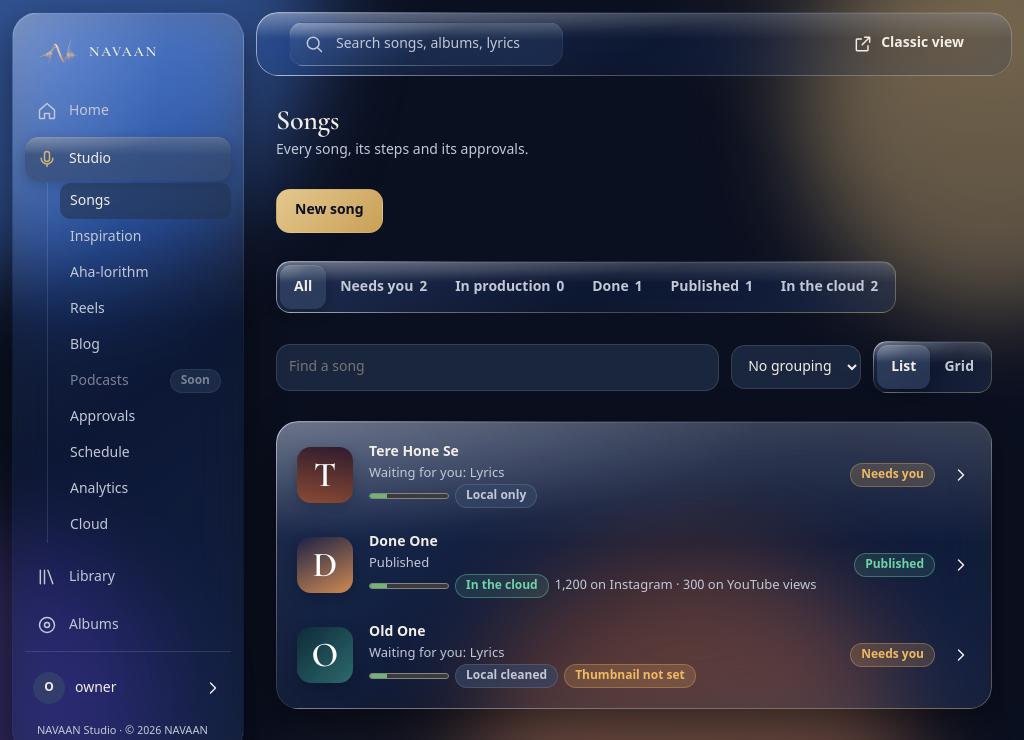
Scenario: Studio > Songs › finds a song, groups by album, shows where its files are and its views, and filters to published or in the cloud
expect the link "Done One" shows "In the cloud": met, box x1=285 y1=520 x2=983 y2=610
expect the link "Done One" shows "1,200 on Instagram · 300 on YouTube views": met, box x1=285 y1=520 x2=983 y2=610
Step 1. Type "done" into the search field labelled "Find a song" → (498, 367), box x1=276 y1=344 x2=719 y2=391
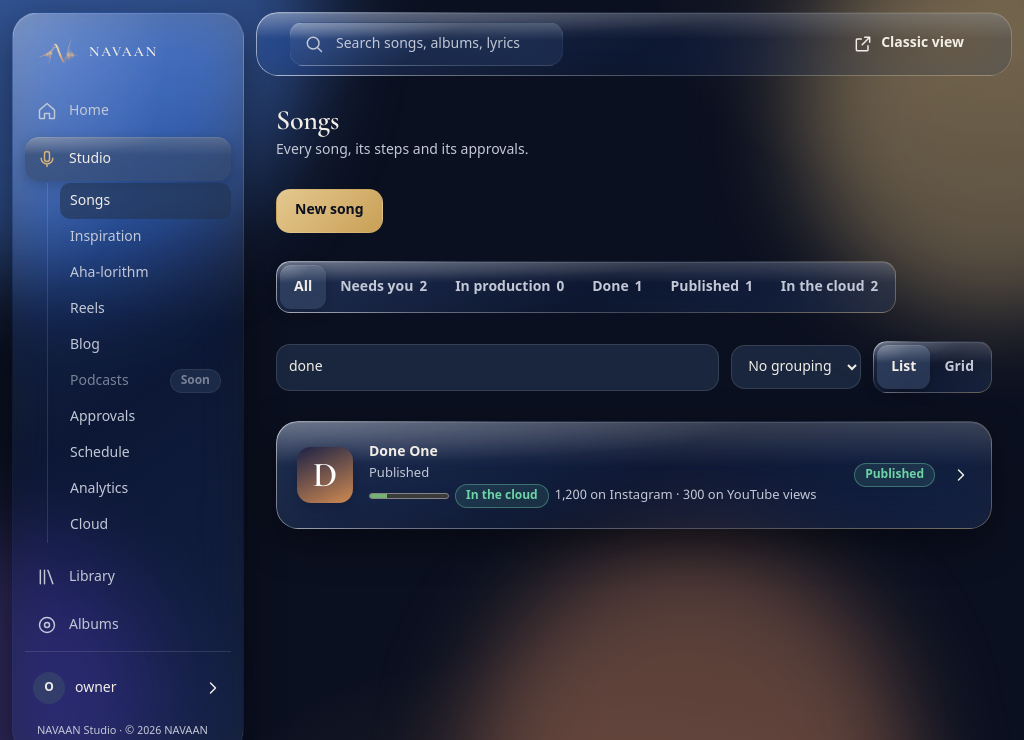
expect the link "Tere Hone Se" is gone: met
Step 2. Clear the search field named "Find a song" → (498, 367), box x1=276 y1=344 x2=719 y2=391
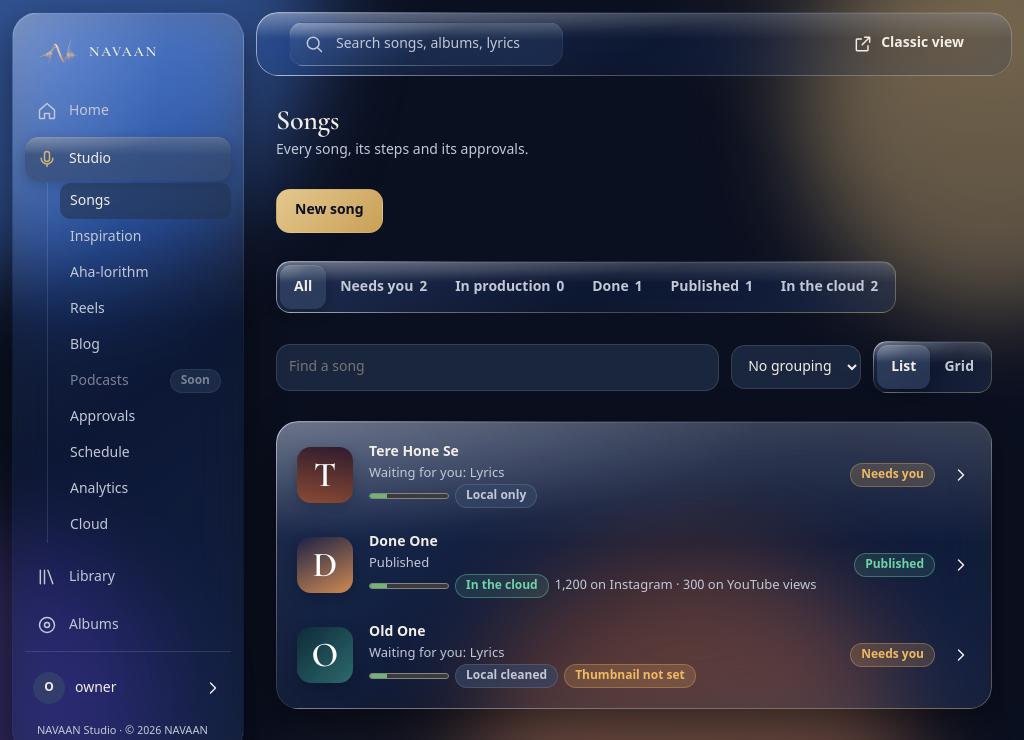
Step 3. Select "By album" in the dropdown named "Group by" → (796, 367), box x1=731 y1=345 x2=861 y2=389
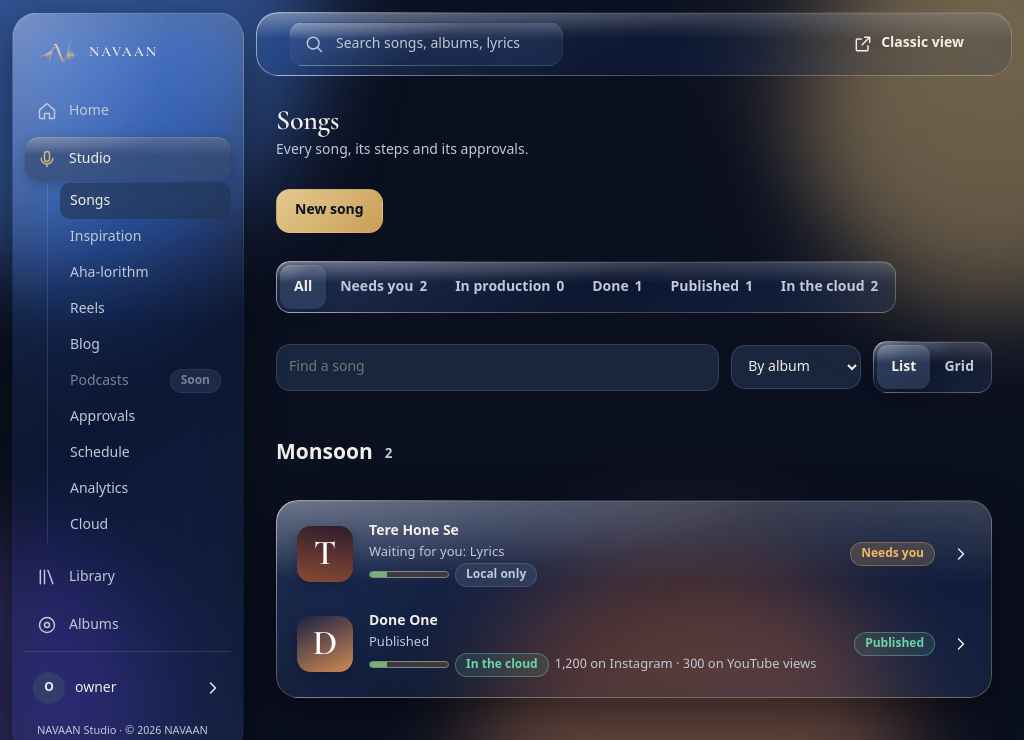
expect the element "Monsoon" shows "Done One": met, box x1=285 y1=598 x2=983 y2=688
Step 4. Click the button "In the cloud 2" → (830, 287), box x1=767 y1=265 x2=892 y2=309
(page scrolled)
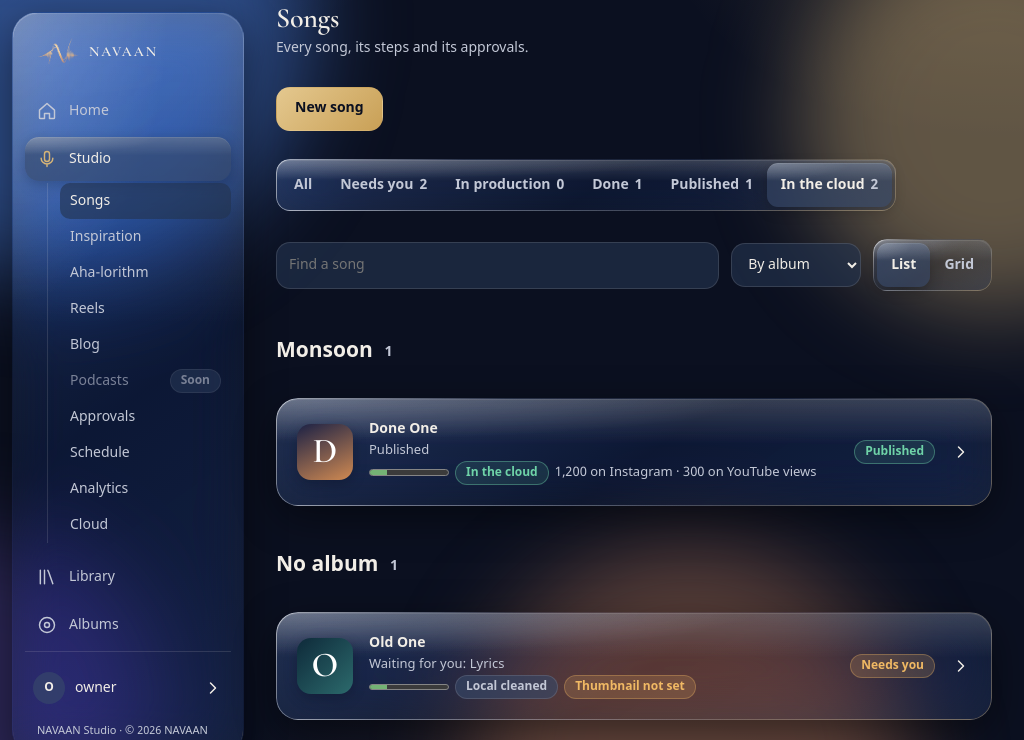
expect the link "Old One" is shown: met, box x1=285 y1=621 x2=983 y2=711
expect the link "Tere Hone Se" is gone: met
